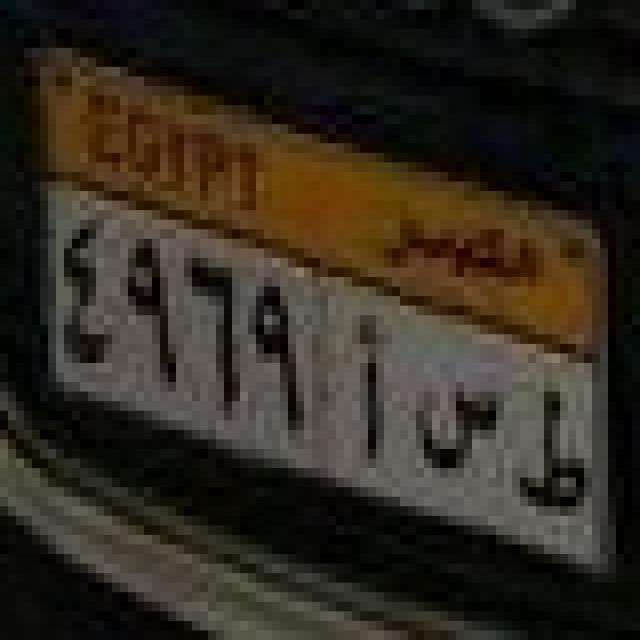4: (56, 206, 118, 372)
6: (184, 251, 250, 417)
9: (120, 232, 182, 392), (248, 276, 310, 434)
Seen: (408, 371, 506, 484)
Taa: (514, 381, 588, 525)
alef: (343, 302, 394, 470)
